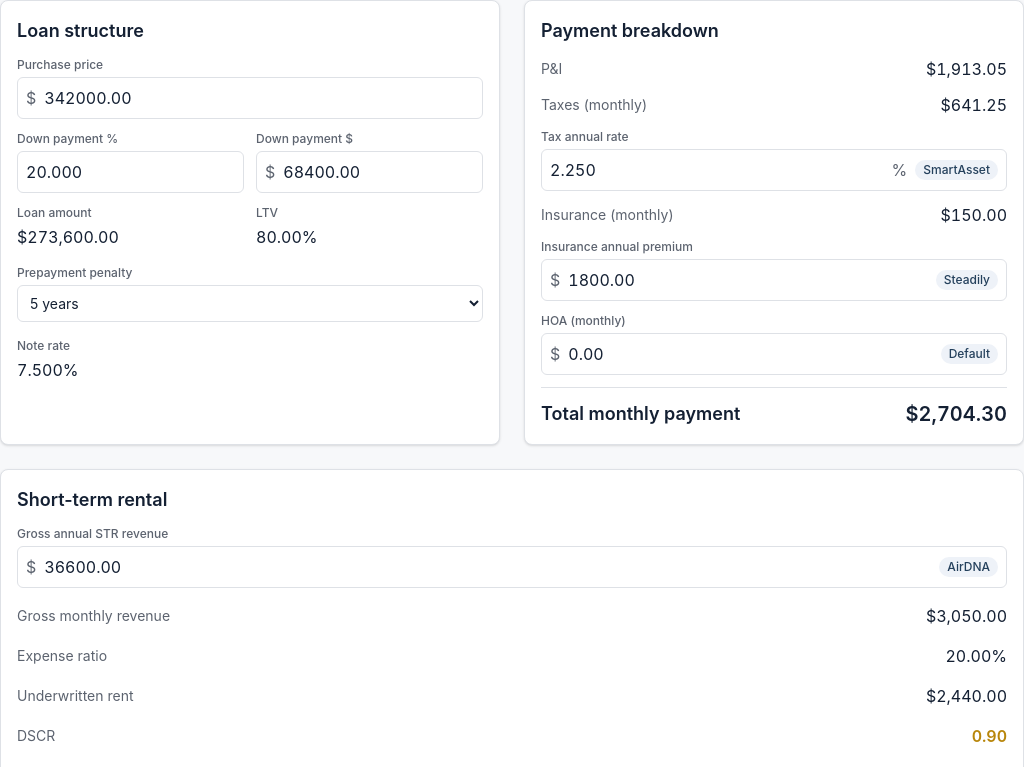
Test: PricingPanel › AC3: overriding property tax shows 'LO override' and recomputes the total
Expected: the text named "Loan amount" reads "$273,600.00", left=17, top=227, right=119, bottom=247
Replace the text in the field named "Property tax annual rate" with "3.000" at (717, 170), box left=550, top=150, right=884, bottom=190
(page scrolled)
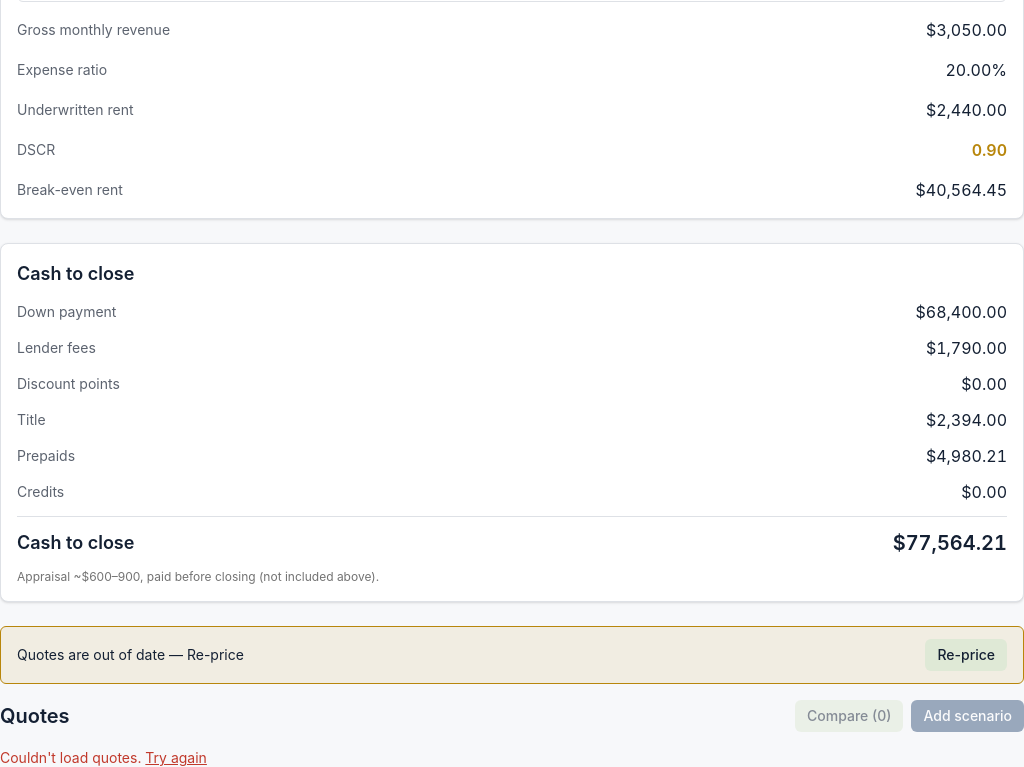
Expected: the text "Quotes are out of date — Re-price" is shown, left=17, top=645, right=244, bottom=665
